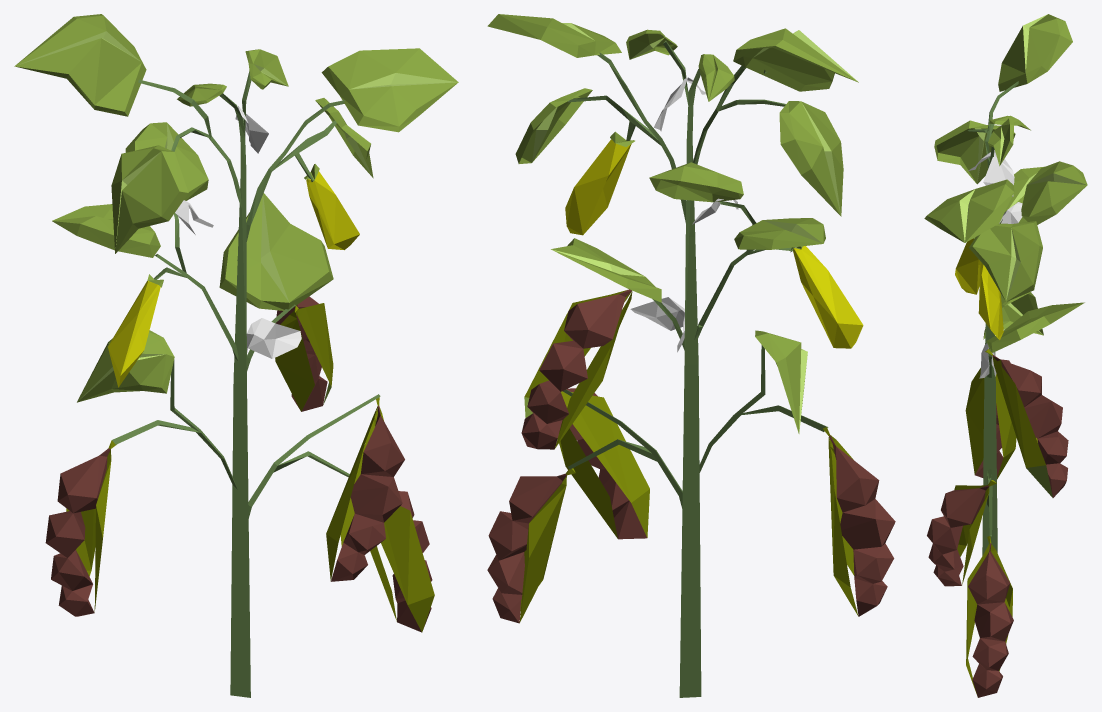
Rendered from Beans_4.fbx.
3 renders of one model, left to right at view 1: azimuth 30°, elevation 25°; view 2: azimuth 150°, elevation 25°; view 3: azimuth 270°, elevation 25°, orthographic. The views are drawn at different scales.
Visible parts, largest first — view 1: Beans_5; view 2: Beans_5; view 3: Beans_5.
Part boxes in pixels (x1,y1,x2,y2): Beans_5: [14, 14, 458, 697]; Beans_5: [487, 14, 895, 697]; Beans_5: [924, 14, 1087, 697].
Bounding box in the file's own units: 204 × 335 × 86.
